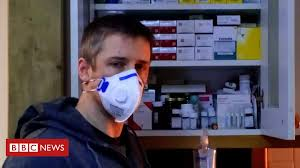masked: (73, 13, 153, 123)
